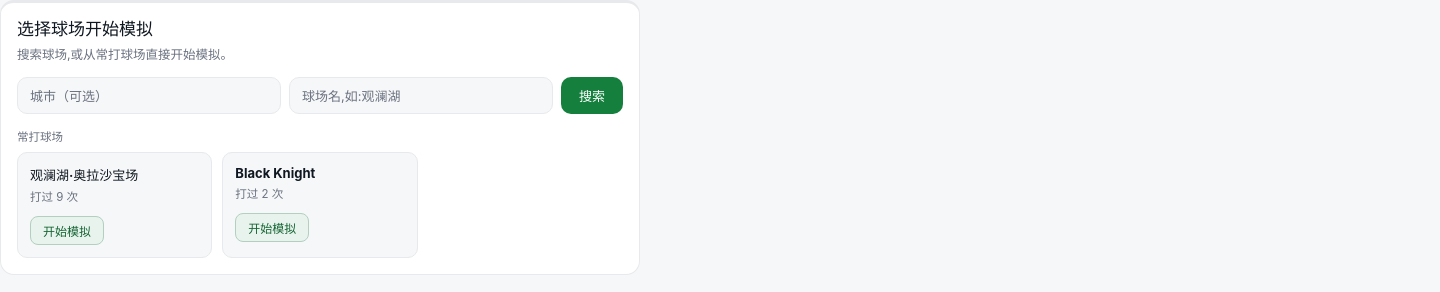
Test: LiveSandbox course pick › shows 沙盘加载中… while the prep fetch is in flight
Click the button with aria-label "开始模拟 观澜湖·奥拉沙宝场": (67, 230) [30,216,104,245]
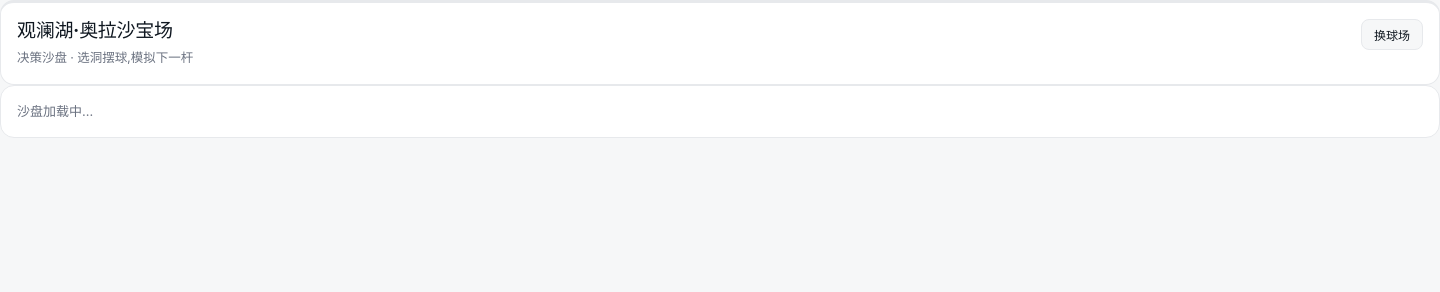
expect the text "沙盘加载中…" is shown: met, box [17,102,93,118]
